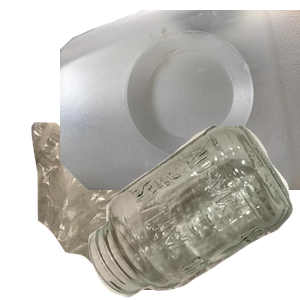glass: (86, 126, 300, 300)
metal: (78, 63, 266, 243)
plastic: (60, 10, 300, 190)
trash: (29, 120, 265, 300)
